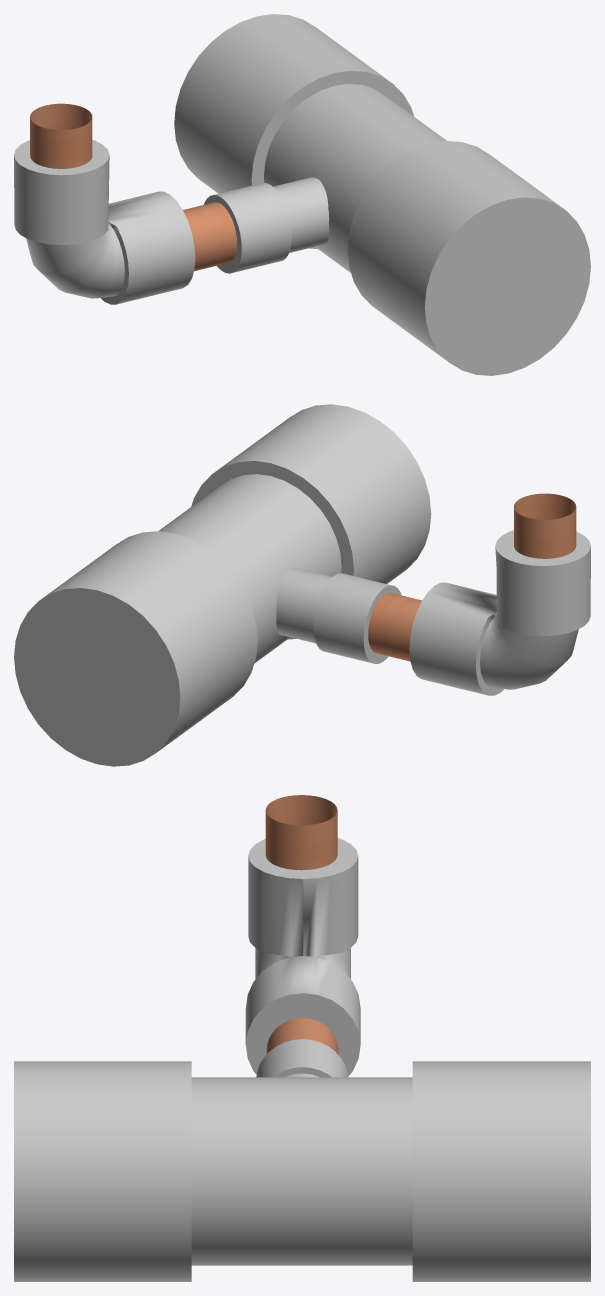
The model's file is Temp Indicator Pipes.fbx.
3 renders of one model, top to bottom at view 1: azimuth 30°, elevation 25°; view 2: azimuth 150°, elevation 25°; view 3: azimuth 270°, elevation 25°, orthographic. The views are drawn at different scales.
Parts seen in each view (by area): view 1: Tee.011, Elbow.029, Pipe 28.008, Pipe 29.006; view 2: Tee.011, Elbow.029, Pipe 28.008, Pipe 29.006; view 3: Tee.011, Elbow.029, Pipe 28.008, Pipe 29.006.
Part boxes in pixels (box(x1,y1,x2,y2)): Tee.011: box(174, 14, 590, 375); Elbow.029: box(14, 139, 195, 304); Pipe 28.008: box(30, 103, 92, 168); Pipe 29.006: box(183, 202, 237, 271); Tee.011: box(14, 404, 431, 766); Elbow.029: box(409, 530, 590, 695); Pipe 28.008: box(514, 493, 576, 558); Pipe 29.006: box(368, 592, 421, 661); Tee.011: box(14, 1039, 590, 1281); Elbow.029: box(245, 838, 360, 1076); Pipe 28.008: box(265, 795, 337, 870); Pipe 29.006: box(266, 1018, 338, 1054).
Size of the model in its own units: 13.6 by 7.12 by 13.26.
